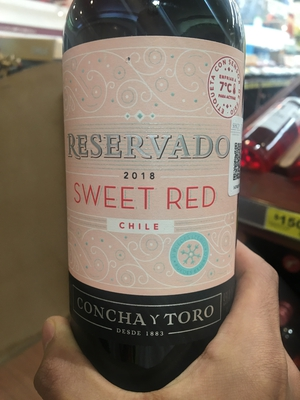reservado sweet red: (63, 1, 245, 367)
